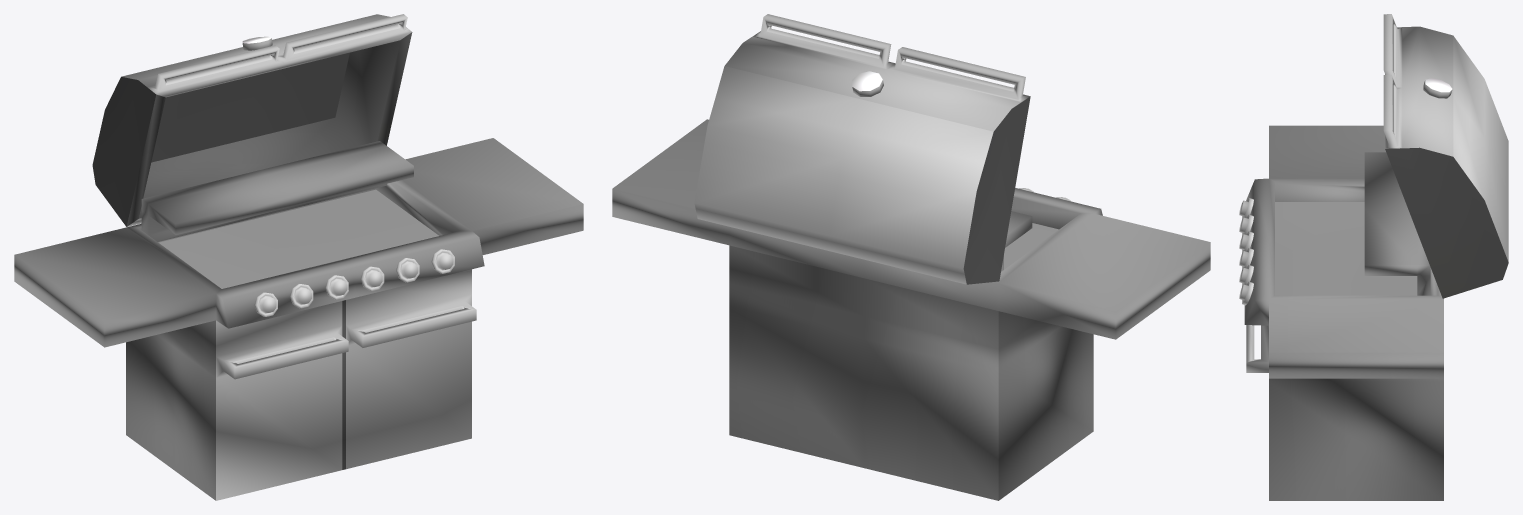
The model's file is BarbecueGrillOpened.glb.
3 renders of one model, left to right at view 1: azimuth 30°, elevation 25°; view 2: azimuth 150°, elevation 25°; view 3: azimuth 270°, elevation 25°, orthographic. The views are drawn at different scales.
Visible parts, largest first — view 1: BarbecueGrillOpened; view 2: BarbecueGrillOpened; view 3: BarbecueGrillOpened.
Part boxes in pixels (x1,y1,x2,y2): BarbecueGrillOpened: [14, 14, 583, 500]; BarbecueGrillOpened: [612, 14, 1210, 500]; BarbecueGrillOpened: [1239, 14, 1508, 500].
Bounding box in the file's own units: 2.71 × 2.05 × 1.36.
1 material, 1 textured.
